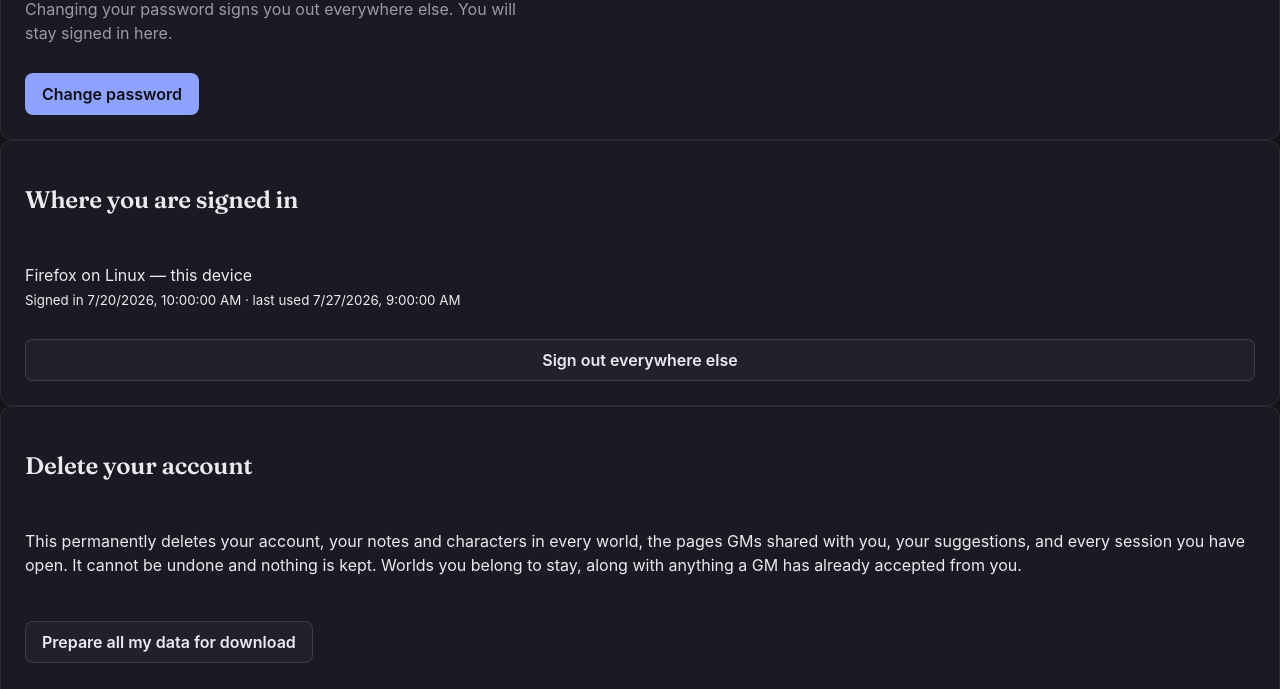
it: AccountPage — sessions › surfaces a failure to end other sessions
The image size is (1280, 689).
(page scrolled)
Expected: the list item "Firefox on Linux" is shown, [25,265,146,285]
Click the button "Sign out everywhere else" at (640, 360), box [25,339,1255,381]
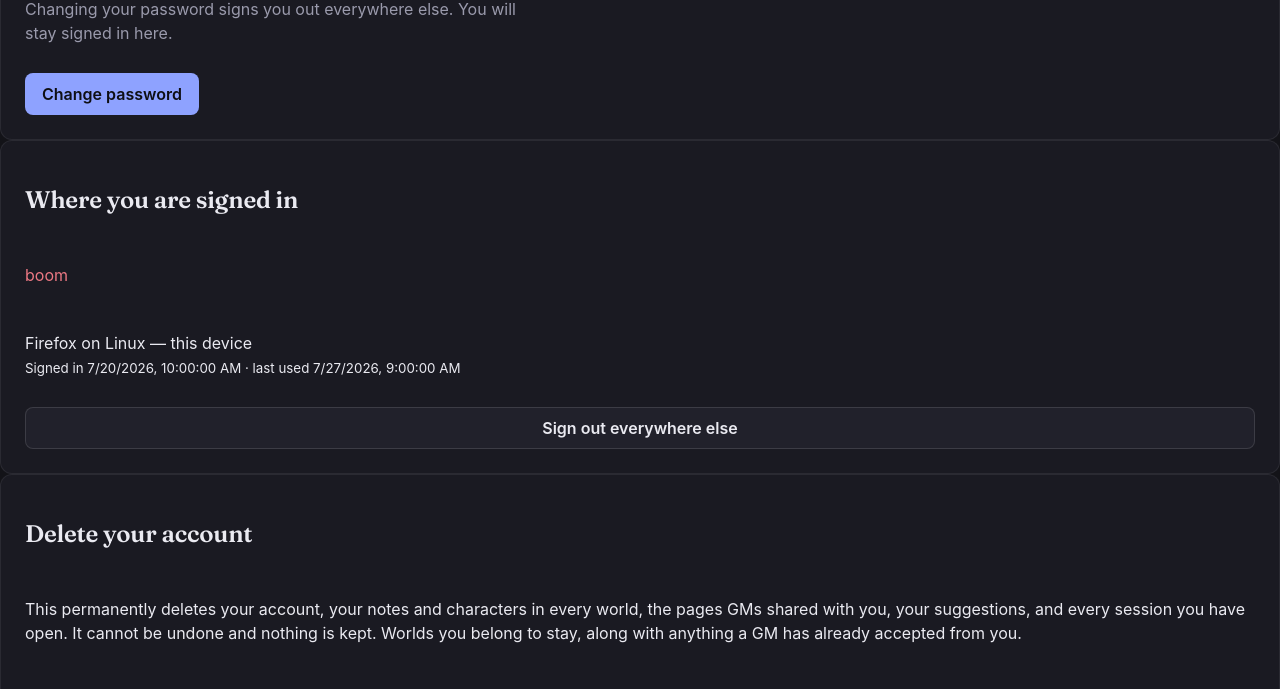
Expected: the message "boom" is shown, [25,265,68,285]
